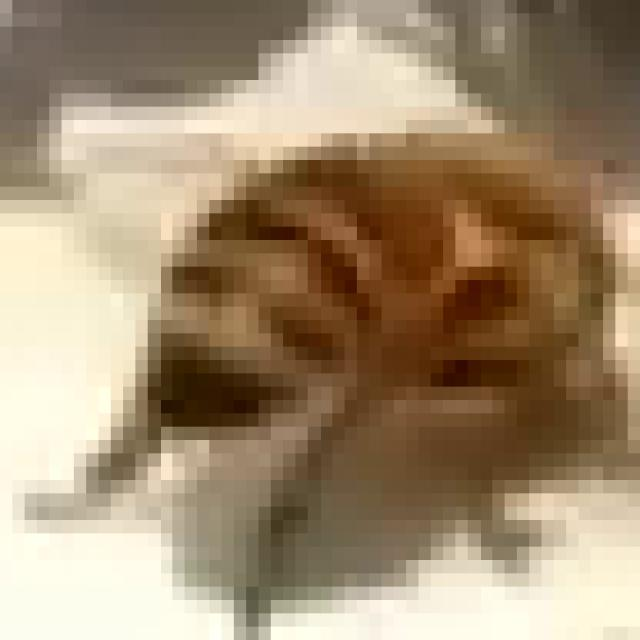honeybee: (136, 126, 595, 516)
